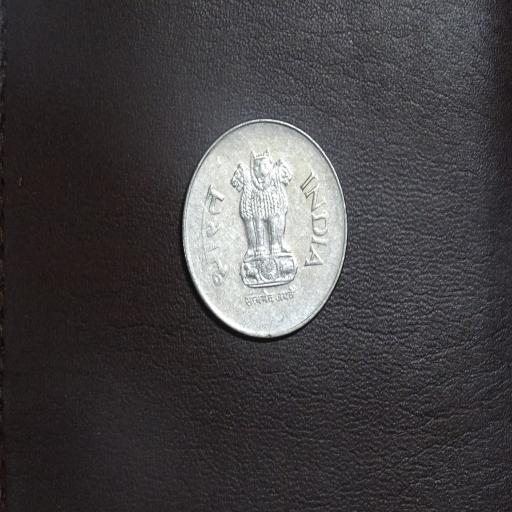rupee1: (178, 121, 347, 340)
